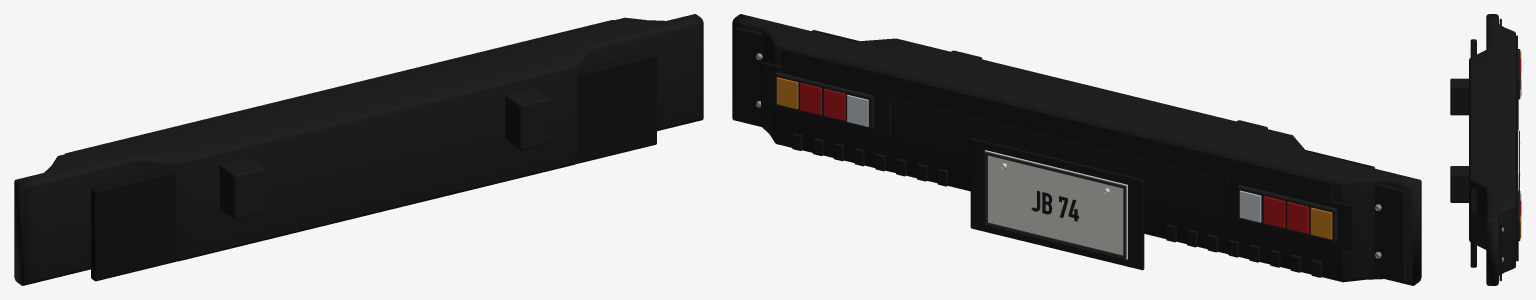
File: rearBumper_damd_little_g_trad_rear.glb
3 renders of one model, left to right at view 1: azimuth 30°, elevation 25°; view 2: azimuth 150°, elevation 25°; view 3: azimuth 270°, elevation 25°, orthographic. The views are drawn at different scales.
Parts seen in each view (by area): view 1: body.017, valance.023, mount-1.021, mount1.021, ripple; view 2: body.017, ripple, plate.026, plateStep, endCap-1.011, endCap1.011, recess1.001, recess-1.001, housing1.001, housing-1.001, cell10, cell-10 (+9 smaller); view 3: body.017, mount-1.021, mount1.021, valance.023, ripple, endCap1.011, housing1.001, housing-1.001, recess1.001, plate.026.
Boxes of the visible parts, x1,y1,x2,y2 form: body.017: (14, 14, 703, 285); valance.023: (91, 52, 656, 281); mount-1.021: (219, 158, 264, 219); mount1.021: (505, 88, 549, 150); ripple: (65, 20, 613, 154); body.017: (732, 14, 1421, 285); ripple: (782, 48, 1332, 201); plate.026: (984, 150, 1127, 259); plateStep: (970, 138, 1144, 270); endCap-1.011: (1374, 183, 1405, 282); endCap1.011: (734, 27, 764, 126); recess1.001: (761, 61, 890, 137); recess-1.001: (1224, 176, 1353, 250); housing1.001: (774, 72, 874, 129); housing-1.001: (1237, 185, 1337, 242); cell10: (776, 77, 798, 109); cell-10: (1310, 207, 1332, 239); body.017: (1469, 14, 1515, 285); mount-1.021: (1450, 78, 1468, 115); mount1.021: (1450, 166, 1468, 202); valance.023: (1470, 39, 1476, 267); ripple: (1516, 35, 1517, 214); endCap1.011: (1499, 215, 1501, 281); housing1.001: (1518, 190, 1520, 241); housing-1.001: (1518, 49, 1520, 99); recess1.001: (1516, 215, 1517, 249); plate.026: (1518, 130, 1518, 190).
Bounding box in the file's own units: 1.57 × 0.3005 × 0.228.
